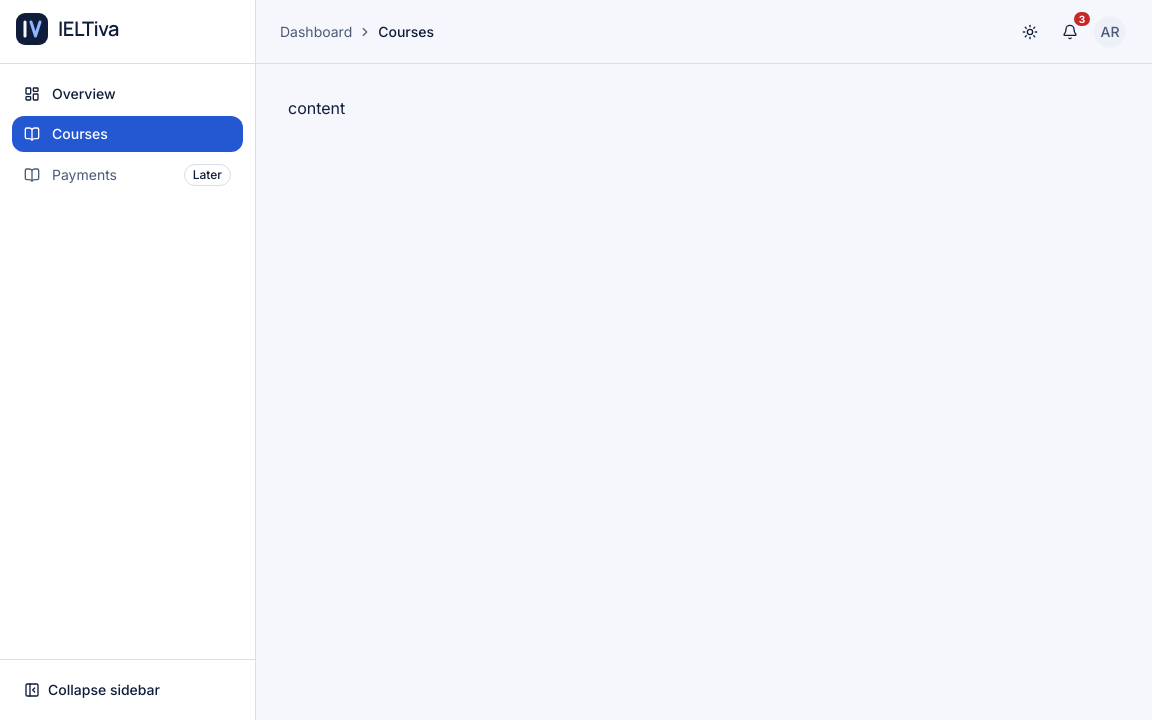
dashboard shell › marks the current page, collapses the sidebar and remembers it
Step 1. Click the button "Collapse sidebar" → x=128, y=690, box x1=12 y1=672 x2=243 y2=708
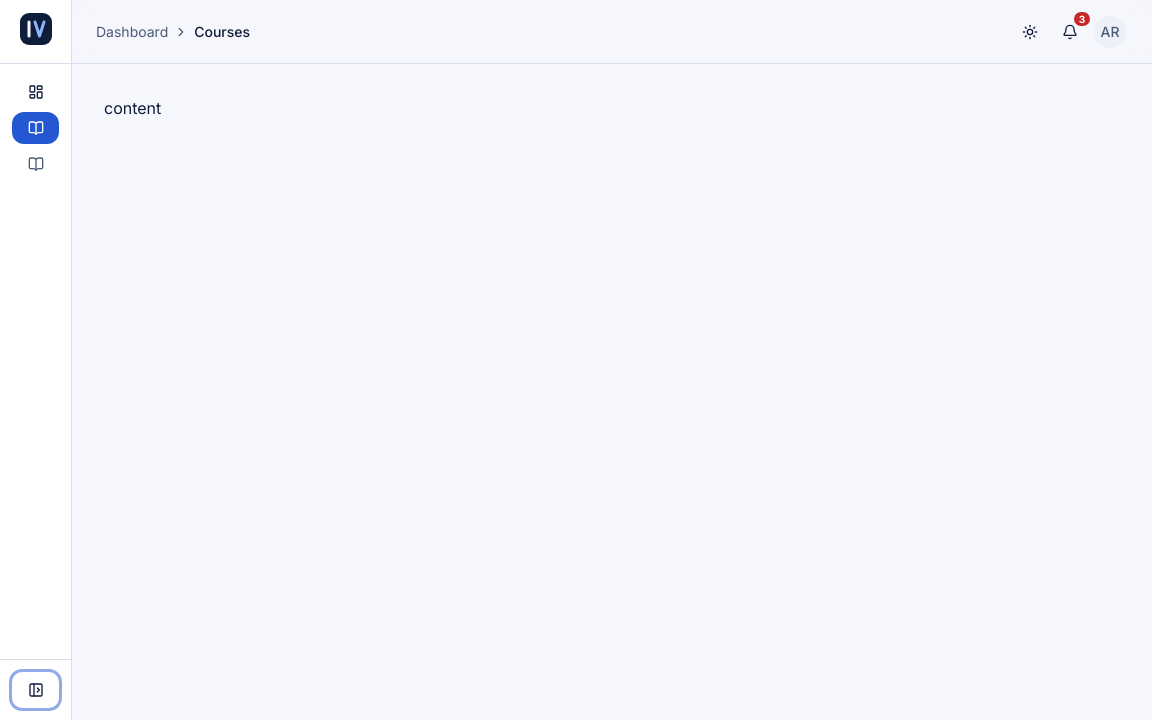
Expected: the button named "Expand sidebar" is collapsed, x1=12 y1=672 x2=59 y2=708
